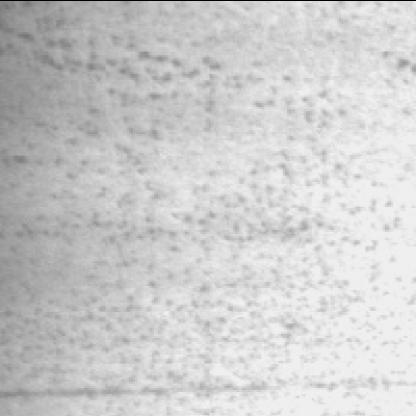pitted_surface: (0, 13, 397, 416)
